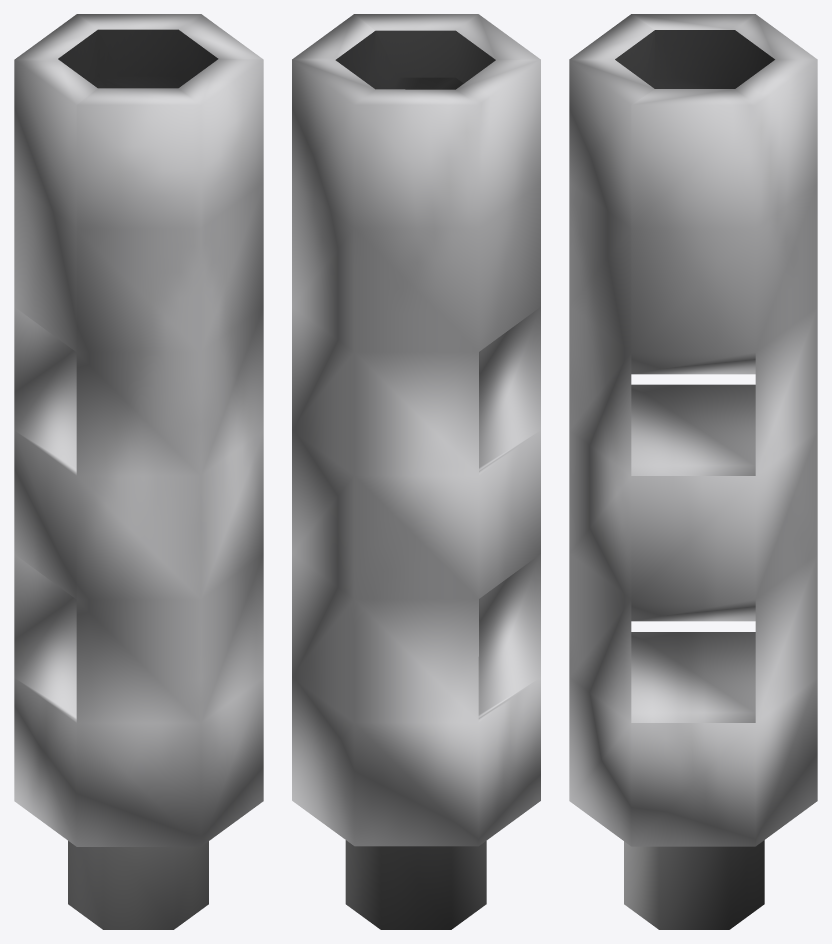
File: TLOG_PipeMuzzleBrake.fbx
3 views of the same model, side by side, from view 1: azimuth 30°, elevation 25°; view 2: azimuth 150°, elevation 25°; view 3: azimuth 270°, elevation 25° (orthographic).
Visible parts, largest first — view 1: MetalPipe; view 2: MetalPipe; view 3: MetalPipe.
Boxes of the visible parts, bbox=[...] form: MetalPipe: bbox=[14, 14, 263, 929]; MetalPipe: bbox=[292, 14, 540, 929]; MetalPipe: bbox=[569, 14, 817, 929].
Bounding box in the file's own units: 0.0156 × 0.0673 × 0.018.
